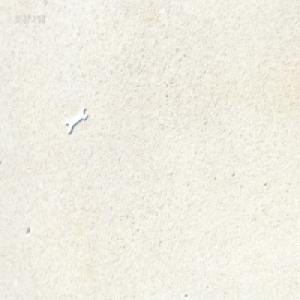Wrench: (65, 107, 88, 137)
